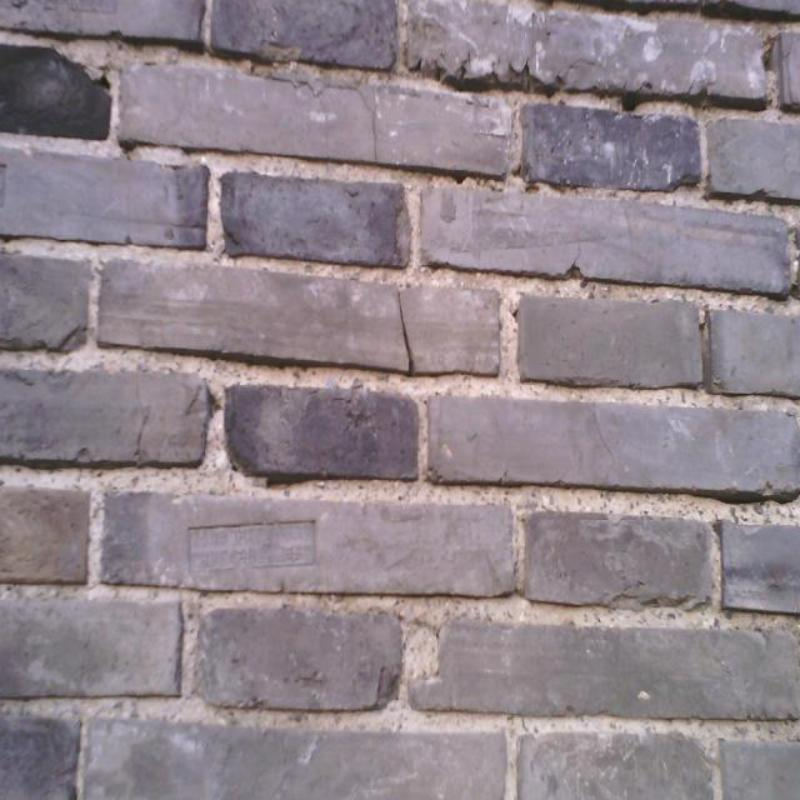crack: (268, 74, 379, 162), (398, 292, 416, 376), (592, 403, 614, 456), (136, 411, 149, 464), (622, 99, 639, 110)
